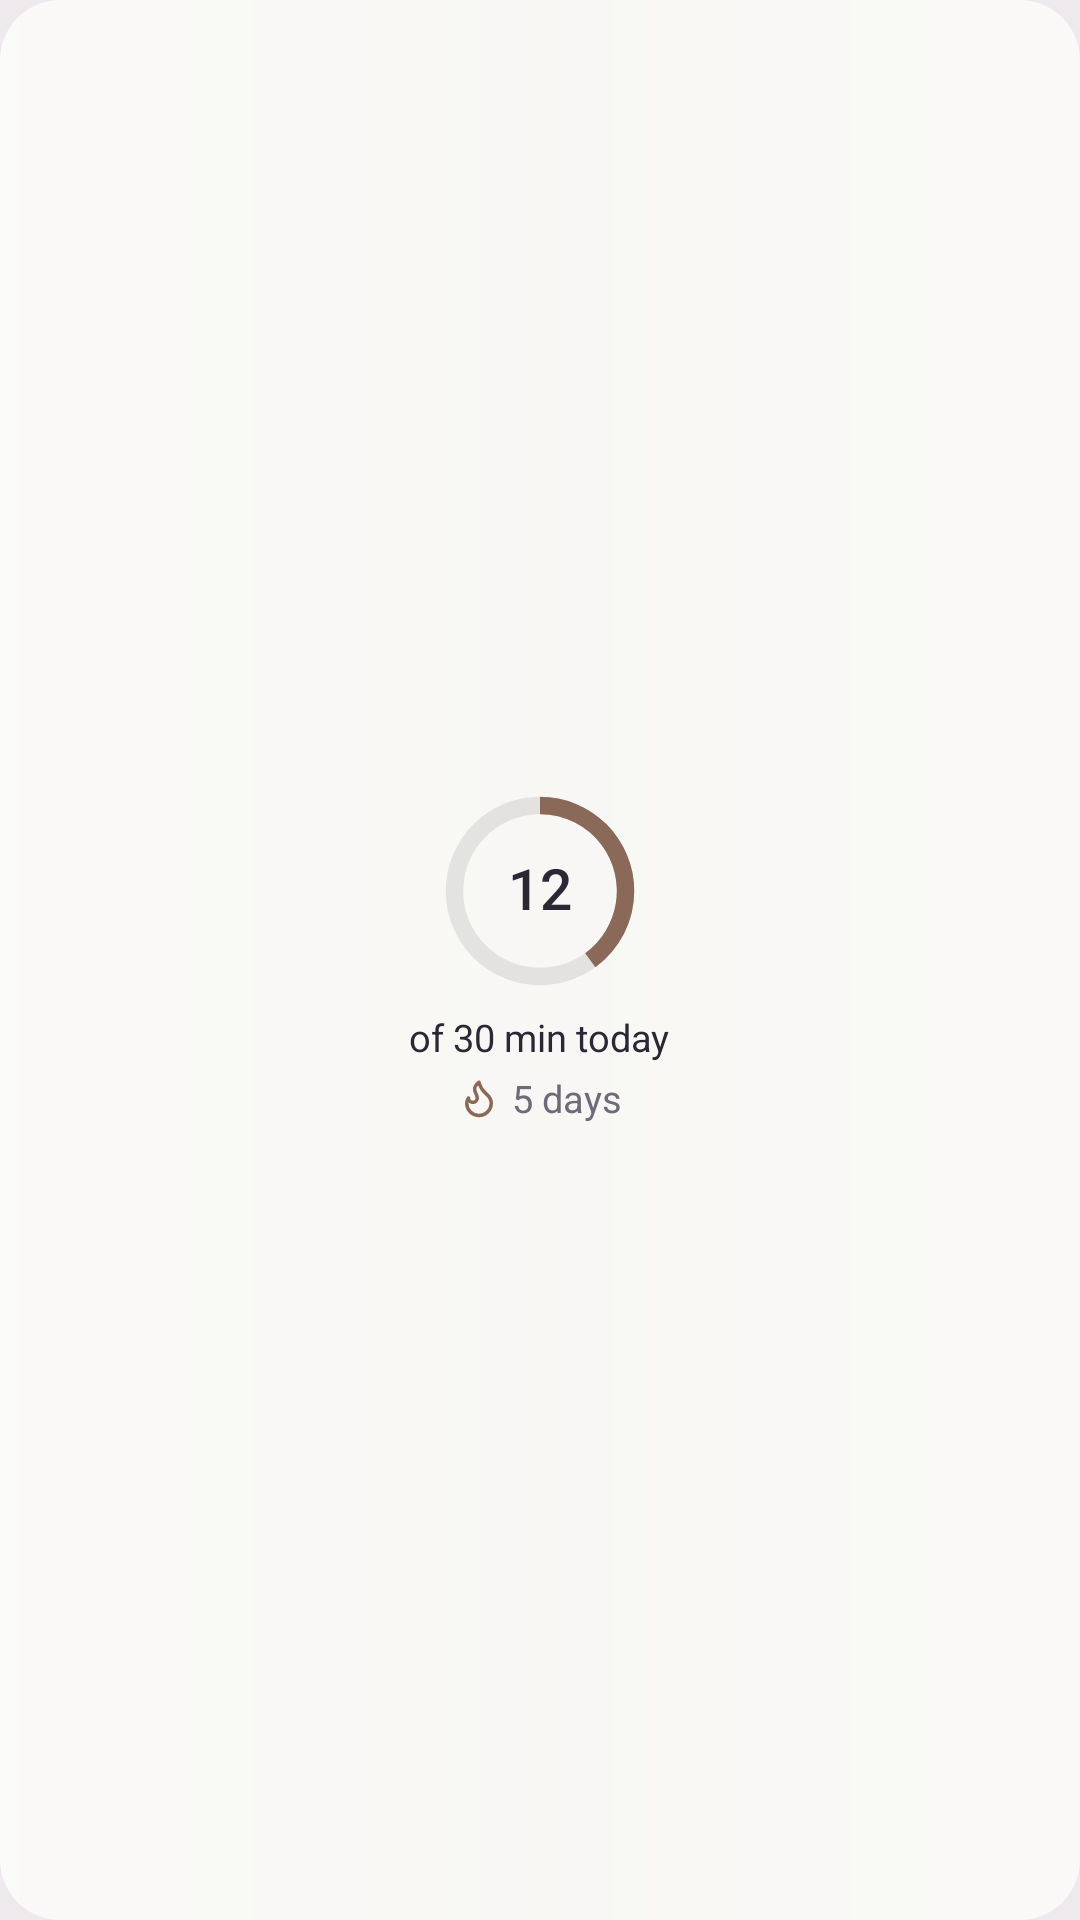

Named icons in this screenshot (1080px x 1920px) and their bounding boxes, [left=x1, top=y1, right=x2, bottom=y2]:
widget flame: [left=465, top=1080, right=493, bottom=1118]
